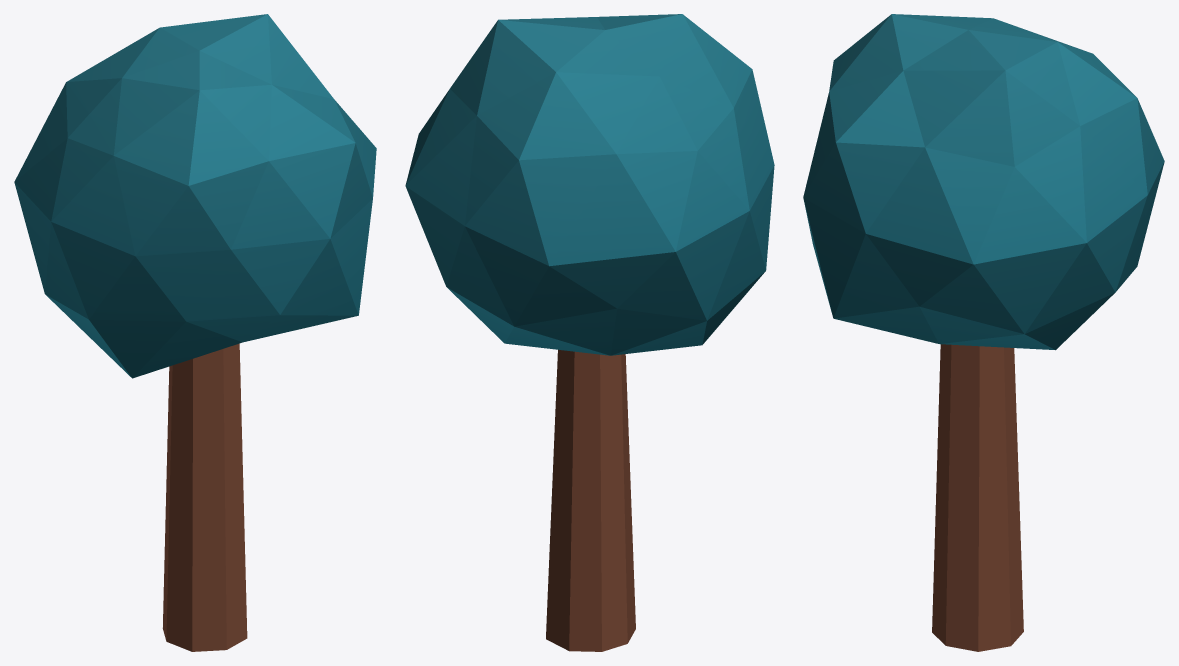
Rendered from Tree_04_gradient_blue_vc.fbx.
3 renders of one model, left to right at view 1: azimuth 30°, elevation 25°; view 2: azimuth 150°, elevation 25°; view 3: azimuth 270°, elevation 25°, orthographic. The views are drawn at different scales.
Parts seen in each view (by area): view 1: Tree_04_gradient_blue_vc; view 2: Tree_04_gradient_blue_vc; view 3: Tree_04_gradient_blue_vc.
Boxes of the visible parts, x1,y1,x2,y2 form: Tree_04_gradient_blue_vc: (14, 14, 376, 651); Tree_04_gradient_blue_vc: (405, 14, 774, 651); Tree_04_gradient_blue_vc: (803, 14, 1164, 651).
Bounding box in the file's own units: 111 × 193 × 105.
